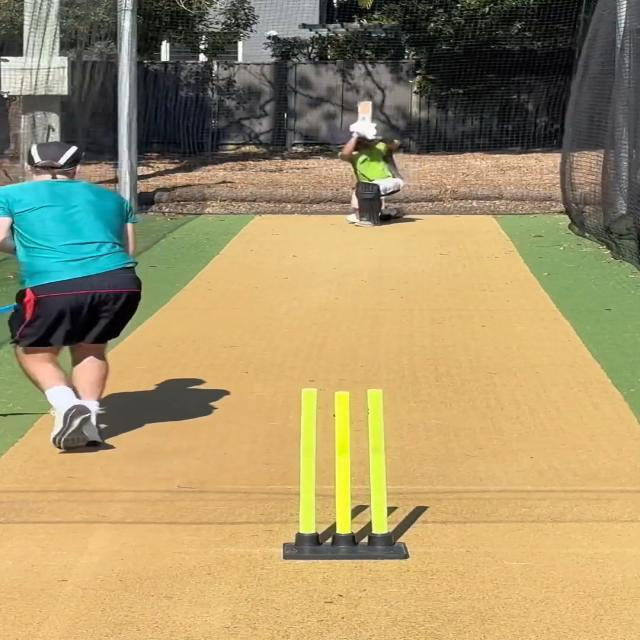stump: (282, 382, 411, 562)
